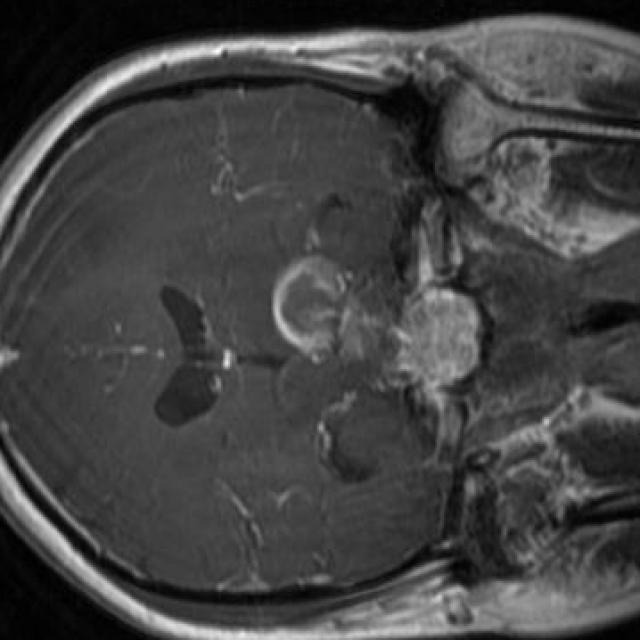glioma: (271, 255, 390, 362)
